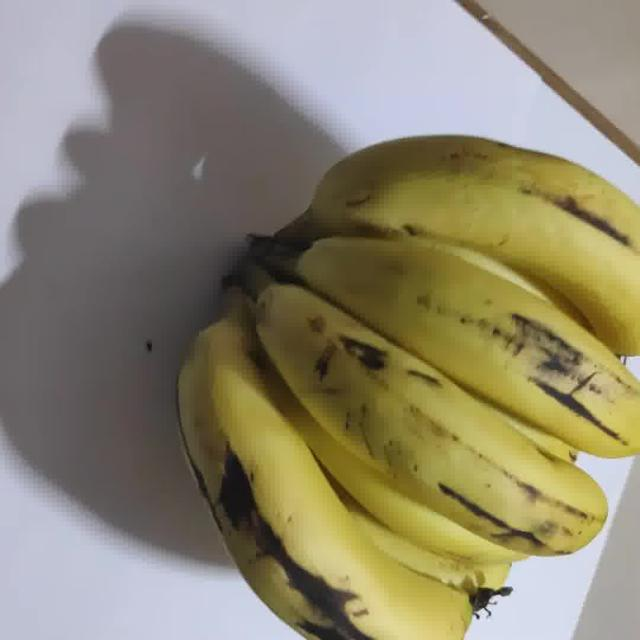banana_pacche: (93, 36, 640, 640)
